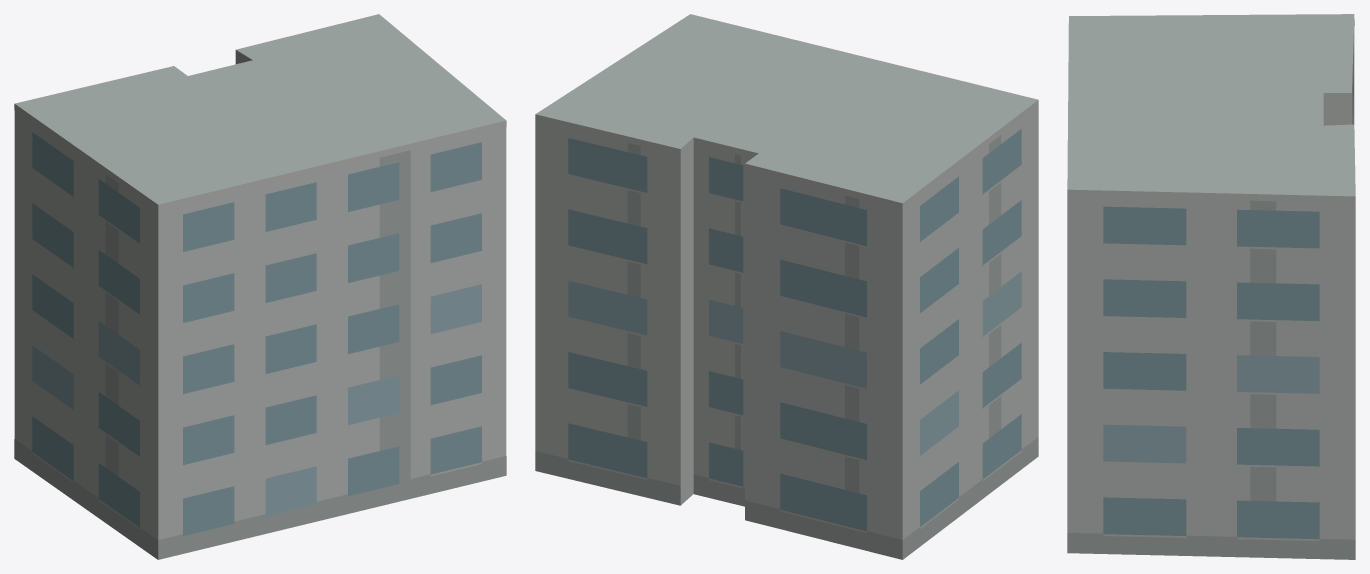
The model's file is survey-upis-32545357.glb.
3 views of the same model, side by side, from view 1: azimuth 30°, elevation 25°; view 2: azimuth 150°, elevation 25°; view 3: azimuth 270°, elevation 25° (orthographic). The views are drawn at different scales.
Parts seen in each view (by area): view 1: survey-upis-32545357.tmp; view 2: survey-upis-32545357.tmp; view 3: survey-upis-32545357.tmp.
Part boxes in pixels (x1,y1,x2,y2): survey-upis-32545357.tmp: (14,14,506,559); survey-upis-32545357.tmp: (535,14,1038,559); survey-upis-32545357.tmp: (1067,14,1355,559).
Bounding box in the file's own units: 14.18 × 13.17 × 9.48.
